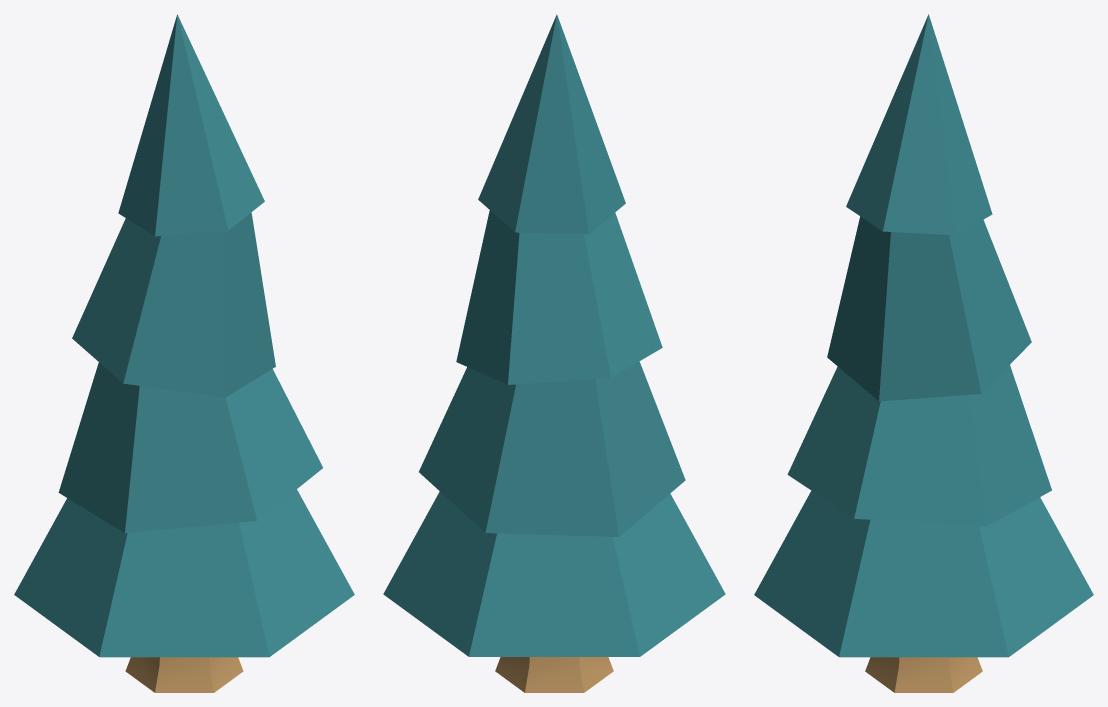
Rendered from treePine.fbx.
The picture shows the model from 3 angles, left to right: view 1: azimuth 30°, elevation 25°; view 2: azimuth 150°, elevation 25°; view 3: azimuth 270°, elevation 25°; orthographic projection.
Parts seen in each view (by area): view 1: treePine; view 2: treePine; view 3: treePine.
Boxes of the visible parts, x1=… form: treePine: x1=14, y1=14, x2=354, y2=692; treePine: x1=383, y1=14, x2=725, y2=692; treePine: x1=754, y1=14, x2=1093, y2=692.
Bounding box in the file's own units: 6.51 × 15.98 × 7.52.
